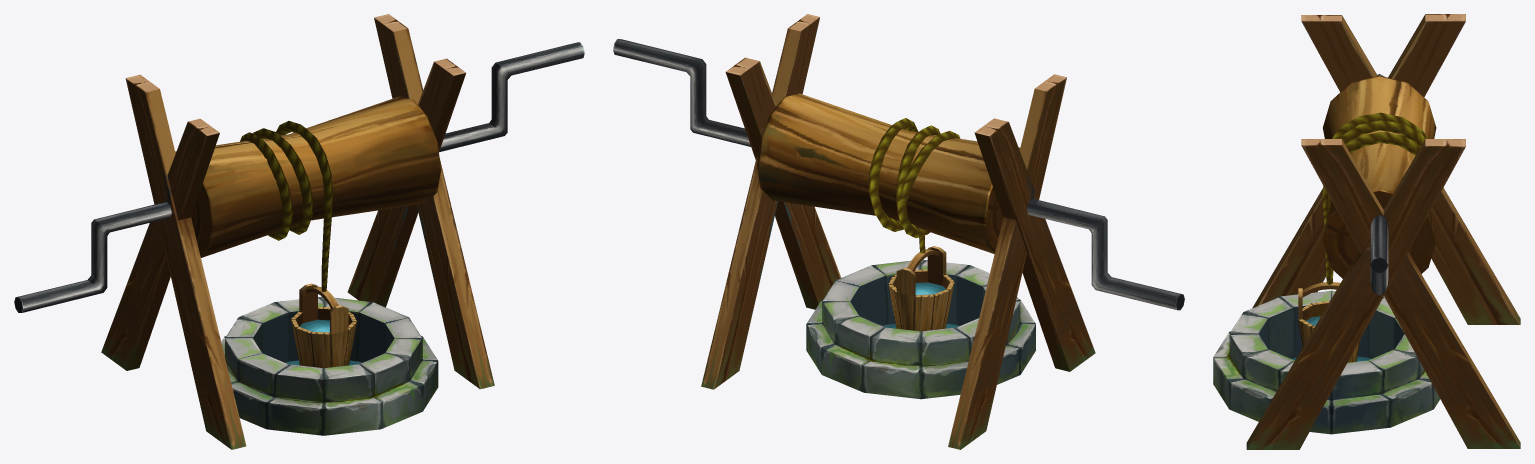
Rendered from shuijing.fbx.
3 views of the same model, side by side, from view 1: azimuth 30°, elevation 25°; view 2: azimuth 150°, elevation 25°; view 3: azimuth 270°, elevation 25° (orthographic). The views are drawn at different scales.
Visible parts, largest first — view 1: shuijing; view 2: shuijing; view 3: shuijing.
Part boxes in pixels (x1=…): shuijing: x1=14, y1=14, x2=584, y2=449; shuijing: x1=613, y1=14, x2=1184, y2=449; shuijing: x1=1213, y1=14, x2=1520, y2=449.
Size of the model in its own units: 163 by 81.43 by 74.7.
